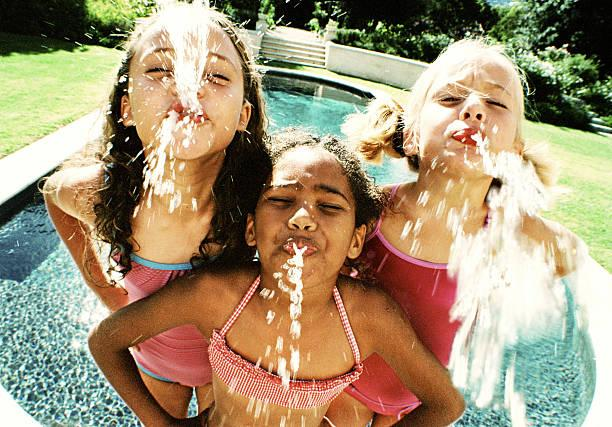Spitting: (377, 0, 576, 203), (75, 3, 260, 180), (227, 139, 383, 314)
